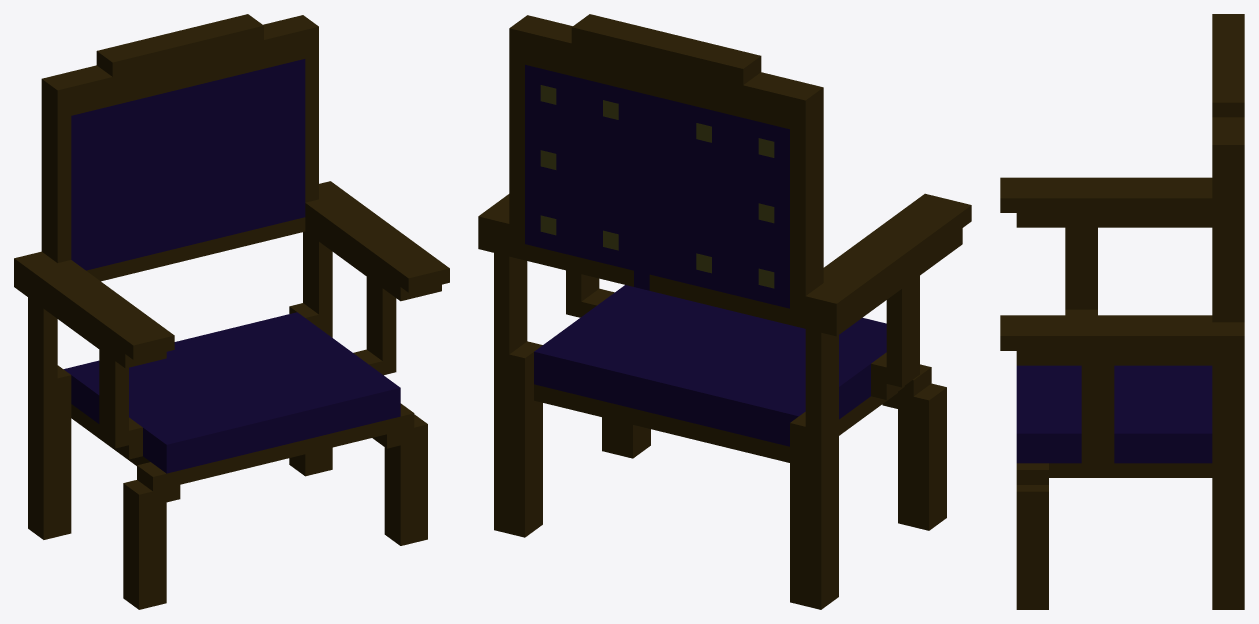
The model's file is Chair4.fbx.
3 renders of one model, left to right at view 1: azimuth 30°, elevation 25°; view 2: azimuth 150°, elevation 25°; view 3: azimuth 270°, elevation 25°, orthographic. The views are drawn at different scales.
Parts seen in each view (by area): view 1: Chair4; view 2: Chair4; view 3: Chair4.
Part boxes in pixels (x1,y1,x2,y2): Chair4: (14,14,449,609); Chair4: (478,14,971,609); Chair4: (1000,14,1244,609).
Size of the model in its own units: 2.3 by 3.2 by 1.5.
